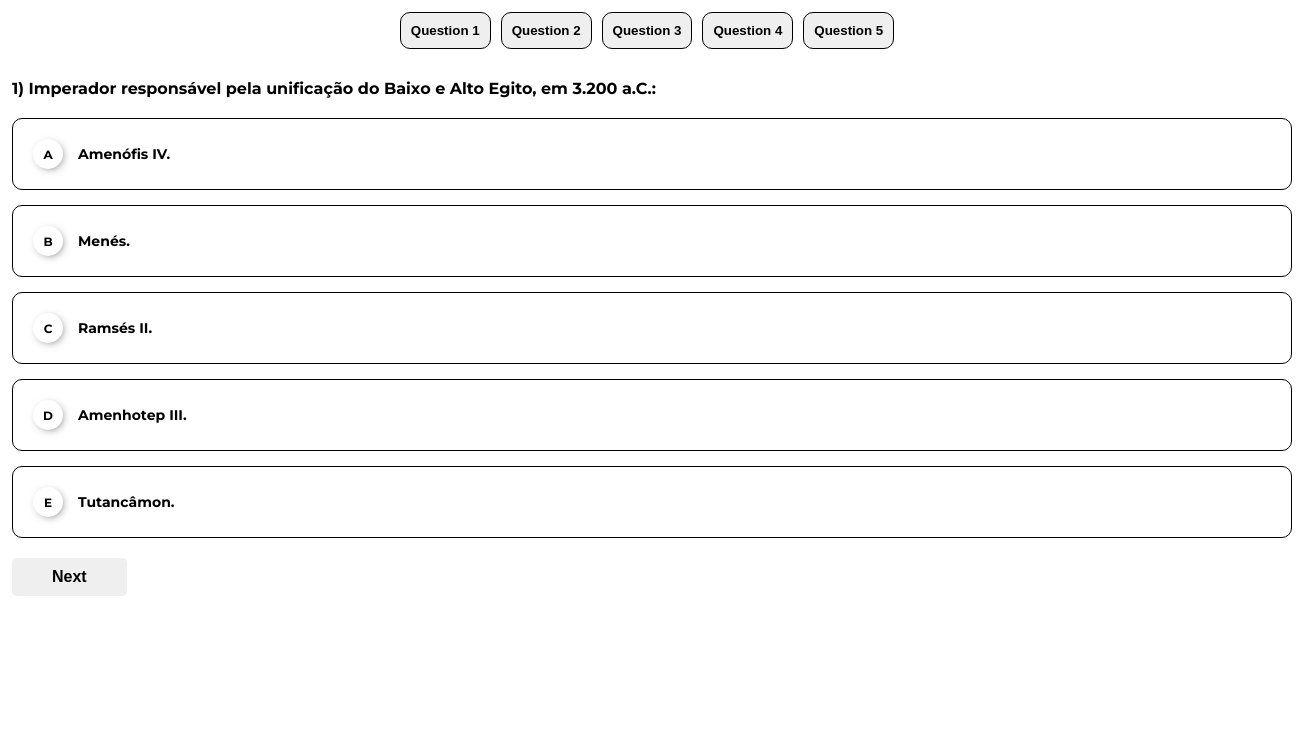
Test case: Quiz › should go back to previous question
Click the button "Next".
click(69, 577)  # box [12, 558, 127, 596]
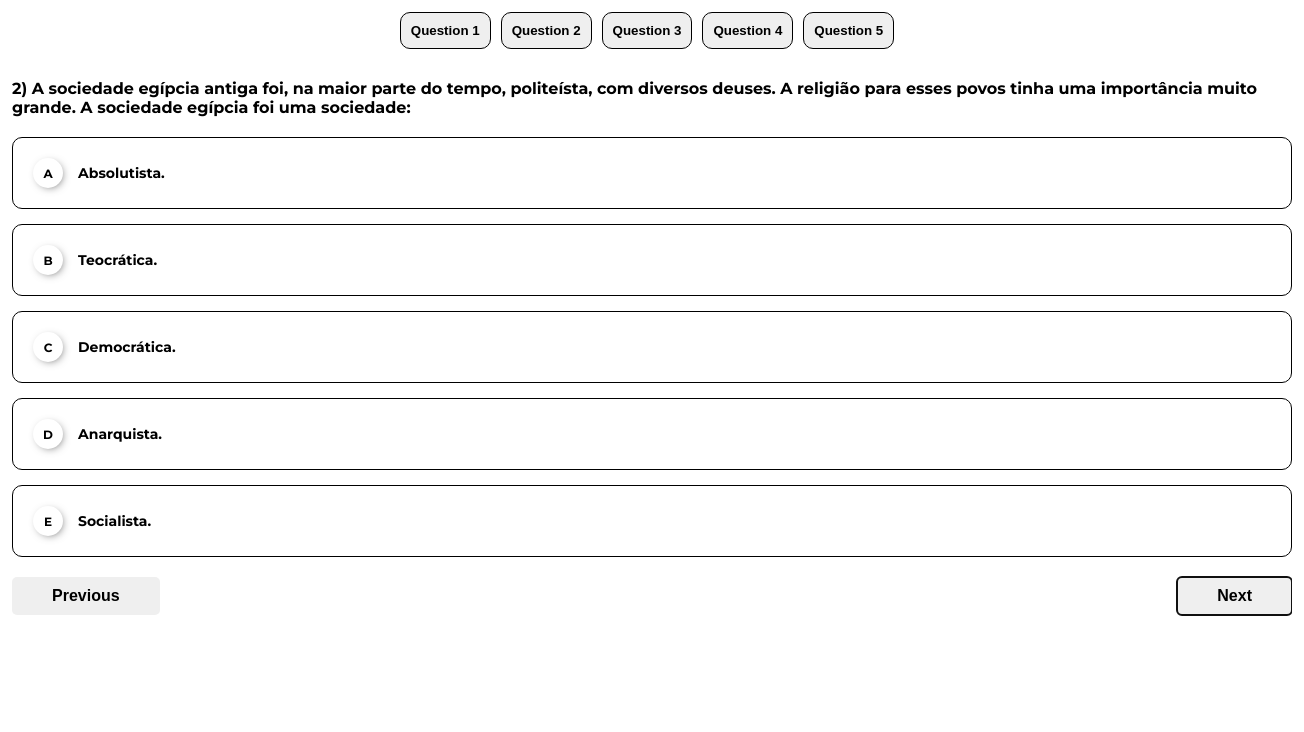
Click the button "Previous".
click(86, 596)  # box [12, 577, 160, 615]
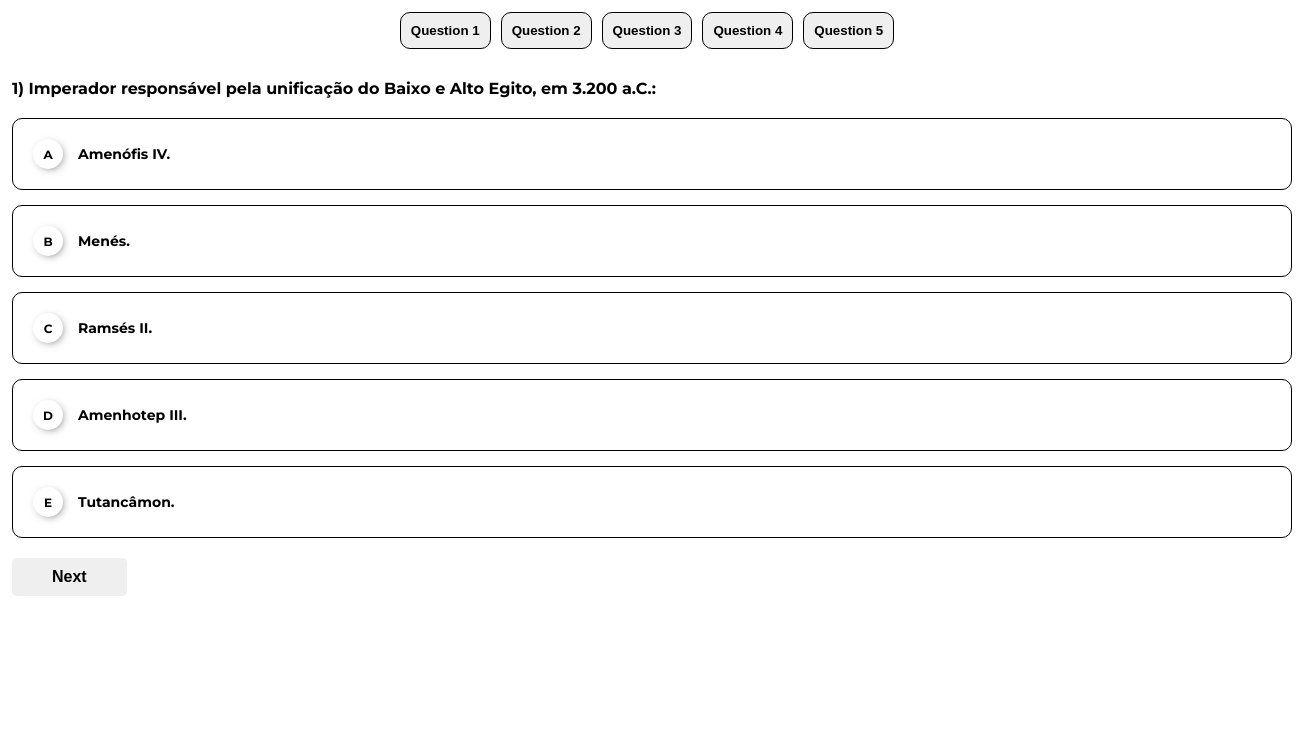
Now the heading "1)" is shown, box [12, 79, 656, 98]
